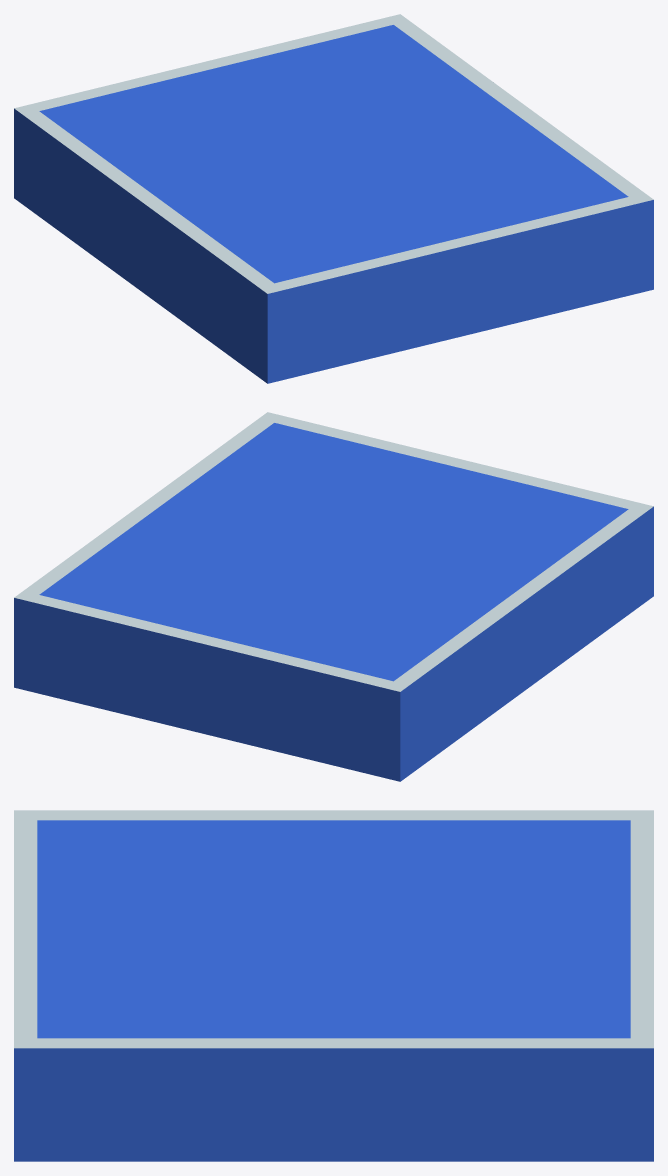
Rendered from BlueBlock.fbx.
3 renders of one model, top to bottom at view 1: azimuth 30°, elevation 25°; view 2: azimuth 150°, elevation 25°; view 3: azimuth 270°, elevation 25°, orthographic. The views are drawn at different scales.
Visible parts, largest first — view 1: BlueBlock.001; view 2: BlueBlock.001; view 3: BlueBlock.001.
Boxes of the visible parts, bbox=[...] form: BlueBlock.001: bbox=[14, 14, 653, 383]; BlueBlock.001: bbox=[14, 412, 653, 781]; BlueBlock.001: bbox=[14, 810, 653, 1161].
Bounding box in the file's own units: 202 × 44.98 × 230.
